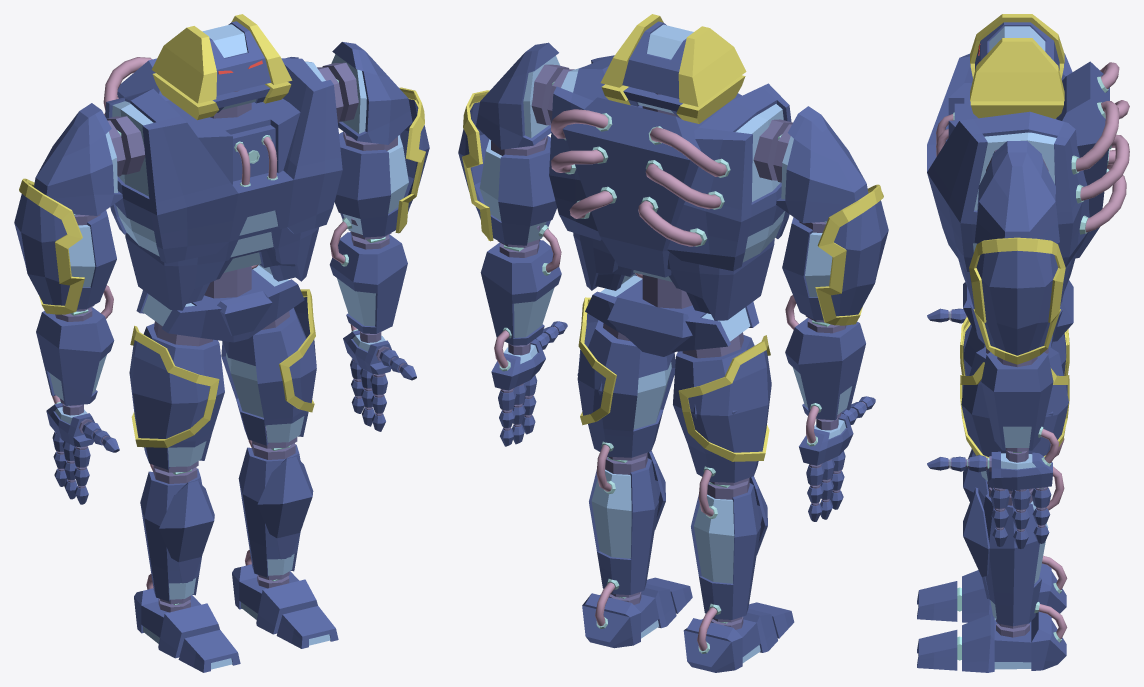
The model's file is Robot_Blocking.fbx.
3 views of the same model, side by side, from view 1: azimuth 30°, elevation 25°; view 2: azimuth 150°, elevation 25°; view 3: azimuth 270°, elevation 25° (orthographic). The views are drawn at different scales.
Parts seen in each view (by area): view 1: Cube.009, Cube.005, Plane.001, Cube.012, Cube.003, Plane.002, Cylinder, Cube.002, Cylinder.003, Cylinder.009, Cube.031, Cube.007 (+29 smaller); view 2: Cube.009, Cube.013, Cube.005, Plane.001, Cube.003, Cylinder, Plane.002, Cube.012, Cylinder.003, Cylinder.009, Cube.031, Cylinder.097 (+29 smaller); view 3: Cube.009, Plane.002, Cube.012, Cube.031, Cube.005, Cylinder.003, Cube.003, Plane.001, Cube.013, Cube.002, Cube.004, BezierCurve.002 (+18 smaller).
Part boxes in pixels (x1,y1,x2,y2): Cube.009: (105, 57, 342, 263); Cube.005: (34, 42, 412, 215); Plane.001: (129, 289, 316, 447); Cube.012: (134, 564, 338, 672); Cube.003: (36, 232, 407, 405); Plane.002: (14, 87, 429, 314); Cylinder: (129, 308, 308, 469); Cube.002: (159, 456, 313, 583); Cylinder.003: (140, 444, 300, 601); Cylinder.009: (77, 132, 398, 309); Cube.031: (151, 14, 292, 120); Cube.007: (125, 226, 319, 310); Cube.009: (549, 55, 791, 270); Cube.013: (562, 97, 700, 277); Cube.005: (476, 42, 868, 223); Plane.001: (577, 297, 771, 461); Cube.003: (480, 240, 865, 420); Cylinder: (577, 320, 758, 482); Plane.002: (458, 90, 888, 325); Cube.012: (582, 577, 794, 672); Cylinder.003: (589, 458, 760, 619); Cylinder.009: (490, 136, 823, 320); Cube.031: (600, 14, 746, 123); Cylinder.097: (591, 469, 734, 583); Cube.009: (927, 53, 1089, 271); Plane.002: (969, 237, 1065, 364); Cube.012: (917, 563, 1066, 672); Cube.031: (970, 14, 1064, 118); Cube.005: (974, 141, 1059, 243); Cylinder.003: (983, 485, 1041, 626); Cube.003: (981, 352, 1053, 450); Plane.001: (960, 317, 1069, 457); Cube.013: (1056, 61, 1109, 258); Cube.002: (963, 449, 989, 598); Cube.004: (988, 451, 1052, 489); BezierCurve.002: (1076, 62, 1119, 171).
Bounding box in the file's own units: 166 × 235 × 74.64.
